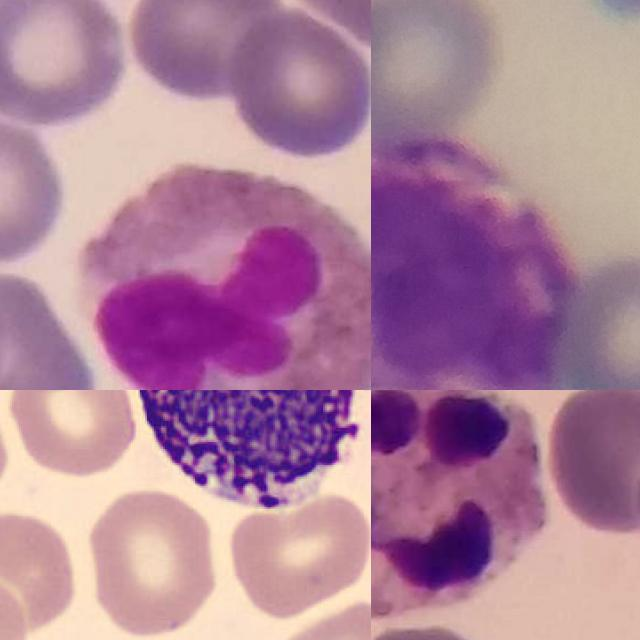Basophil: (371, 135, 577, 390), (117, 390, 371, 522)
Eosinophil: (76, 156, 371, 390)
Neutrophil: (371, 390, 546, 624)
RBC: (81, 484, 221, 640), (221, 491, 371, 619), (5, 390, 140, 478), (0, 503, 86, 637), (271, 597, 371, 640)
